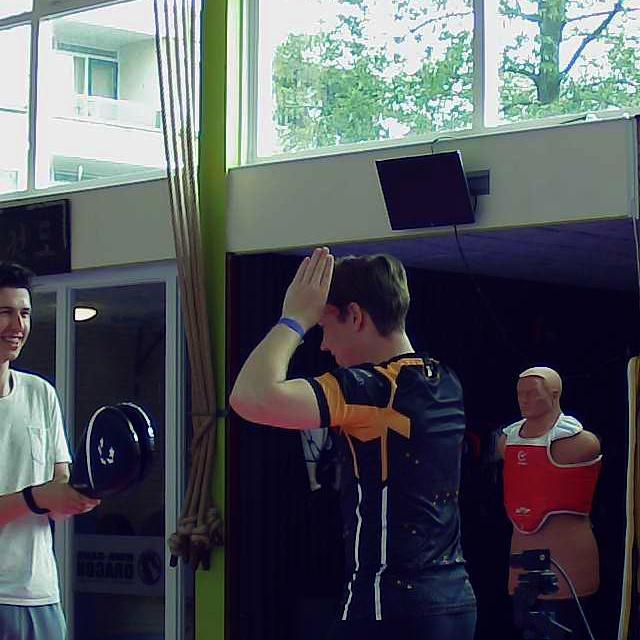paddle: (69, 402, 155, 500)
